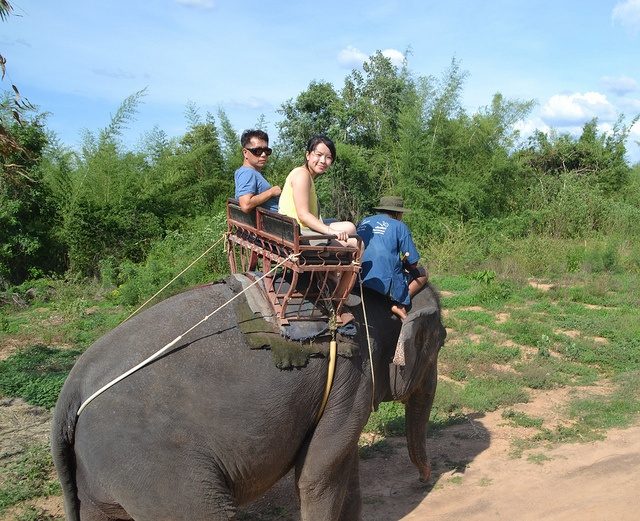elephant: (51, 271, 448, 520)
